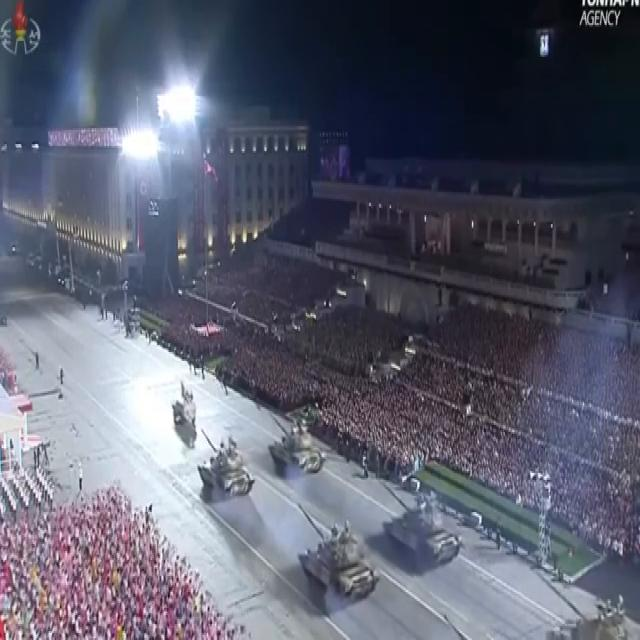north tank: (293, 489, 384, 626), (378, 468, 466, 603), (536, 566, 640, 638), (196, 419, 262, 528), (266, 408, 330, 500)
